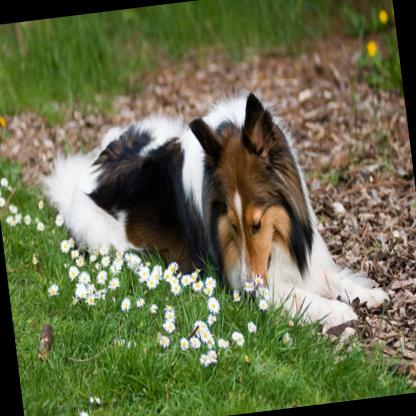Shetland_sheepdog: (27, 68, 394, 373)
